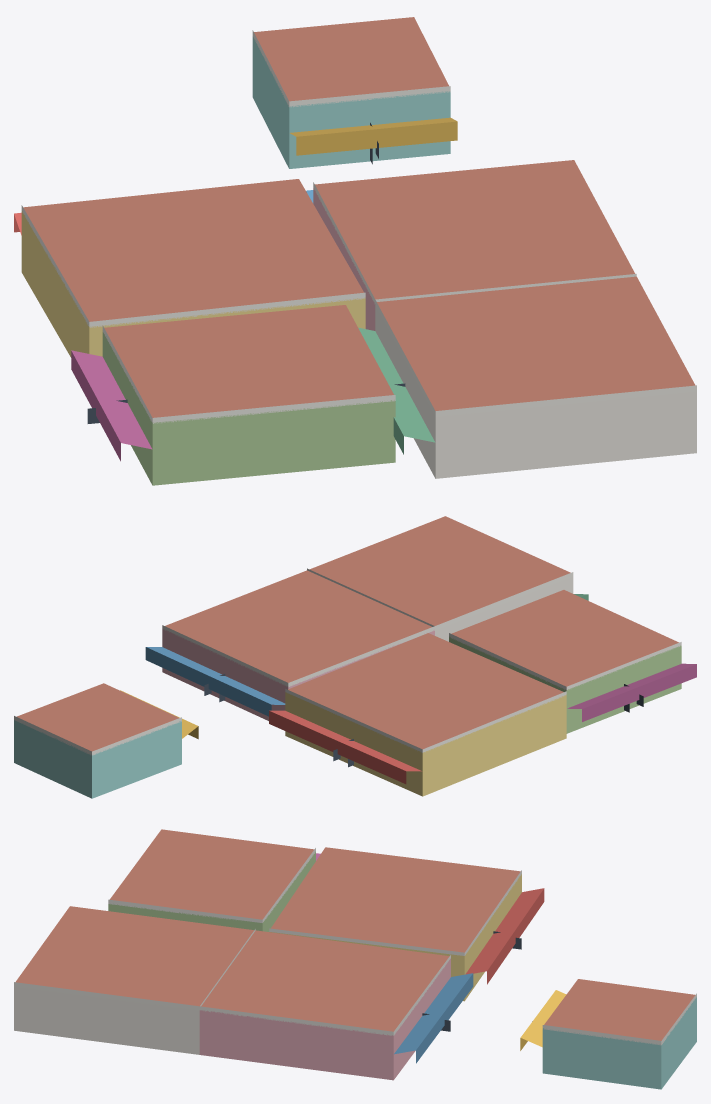
Rendered from snmain_west.glb.
3 views of the same model, one above another, from view 1: azimuth 30°, elevation 25°; view 2: azimuth 150°, elevation 25°; view 3: azimuth 270°, elevation 25° (orthographic). The views are drawn at different scales.
Parts seen in each view (by area): view 1: snmain_west_lod0; view 2: snmain_west_lod0; view 3: snmain_west_lod0.
Boxes of the visible parts, x1,y1,x2,y2 form: snmain_west_lod0: [14, 17, 696, 485]; snmain_west_lod0: [14, 516, 696, 798]; snmain_west_lod0: [14, 829, 696, 1089].
Size of what is drawn, in the model's own units: 38.62 by 3.93 by 50.
